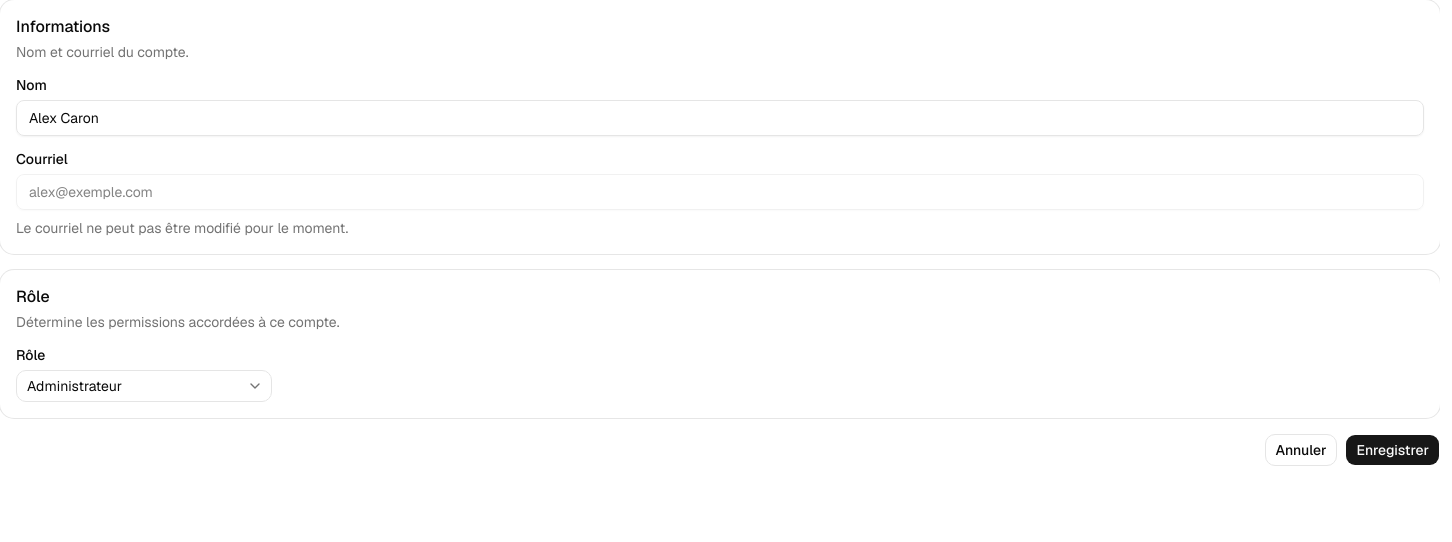
UserEditForm › affiche le garde-fou serveur (propre rôle) dans une alerte inline, sans naviguer
Click the dropdown at (144, 386), box [16,370,272,402]
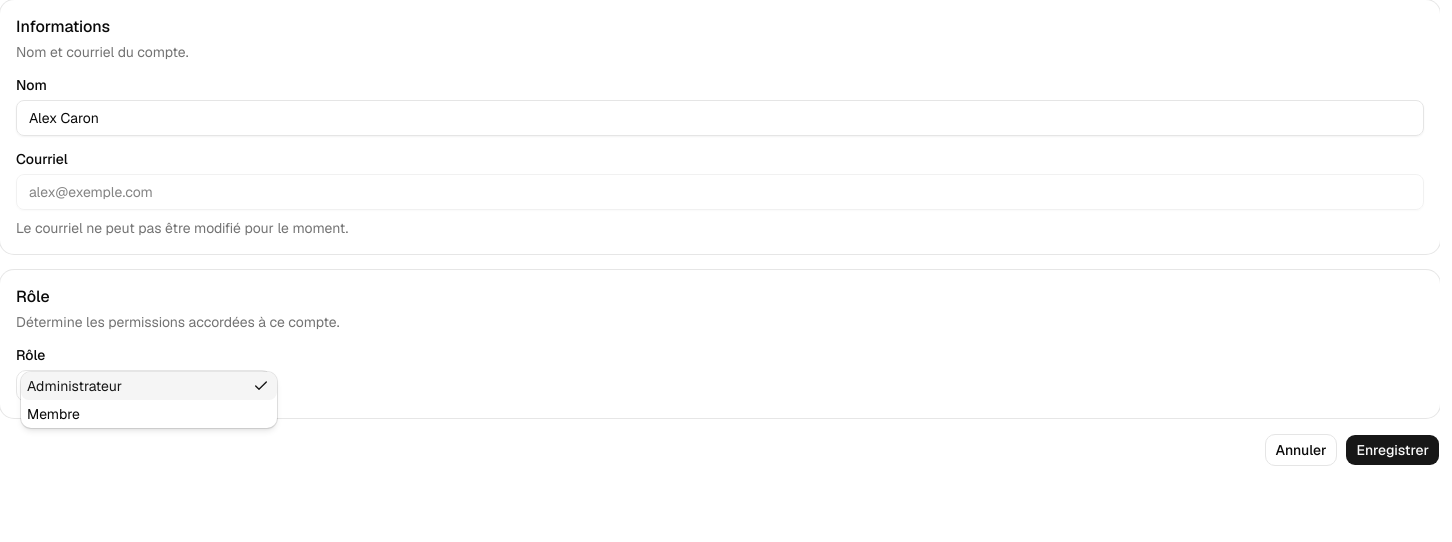
Click the option "Membre" at (53, 414), box [27,405,80,423]
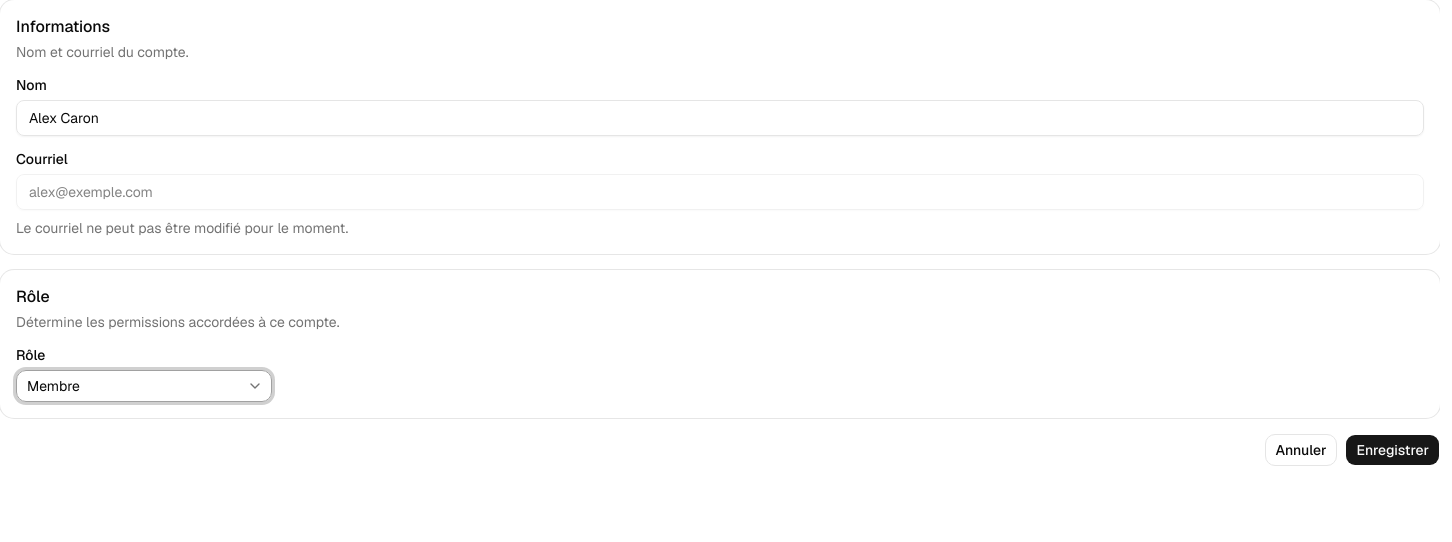
Click the button "Enregistrer" at (1393, 450), box [1346,434,1440,466]
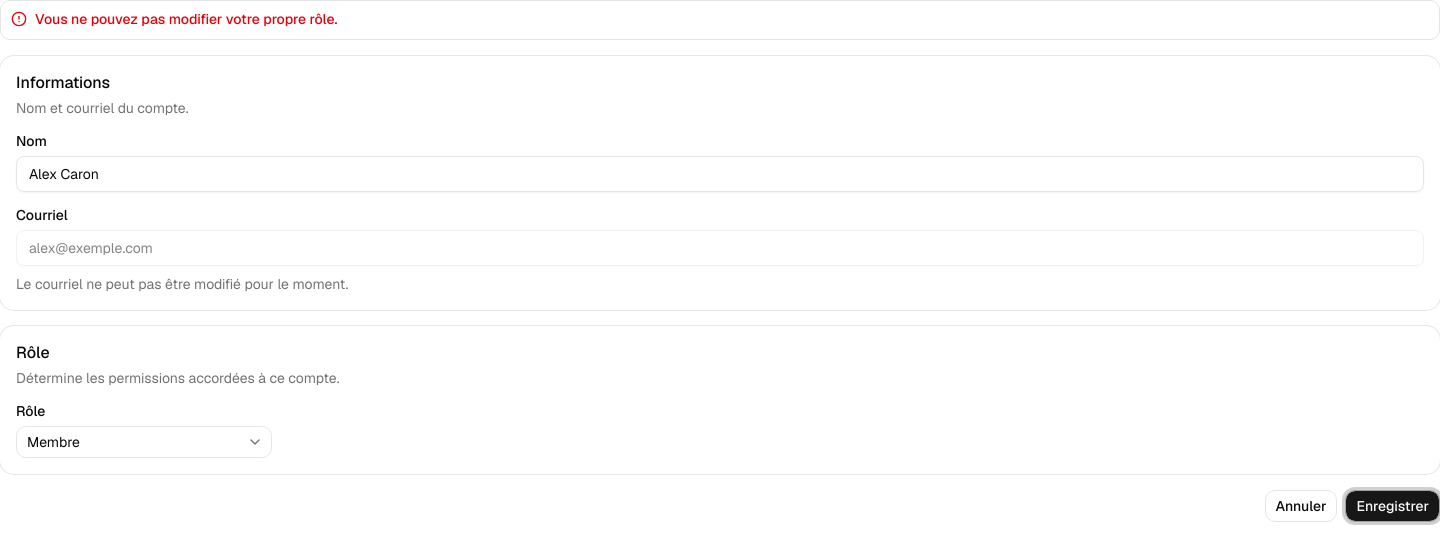
Result: the message reads "Vous ne pouvez pas modifier votre propre rôle." at [35,10,338,28]
